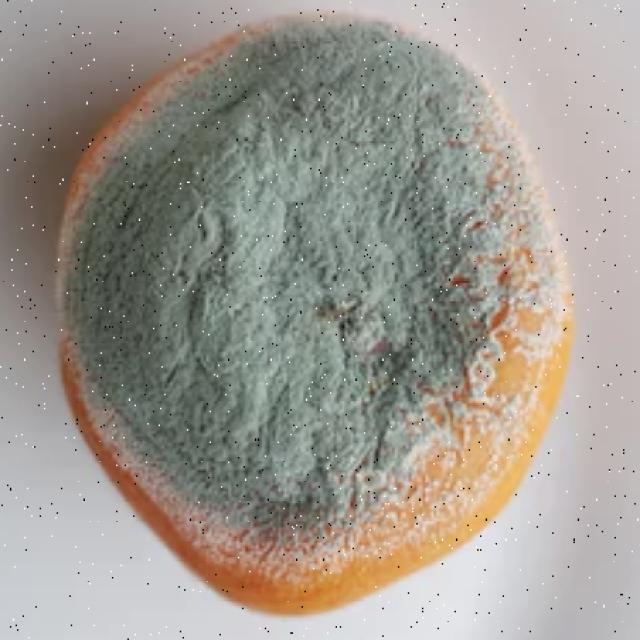Organik: (36, 5, 599, 628)
